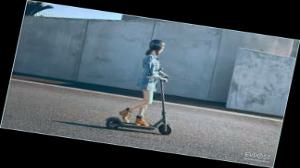helmet: (102, 33, 192, 139)
